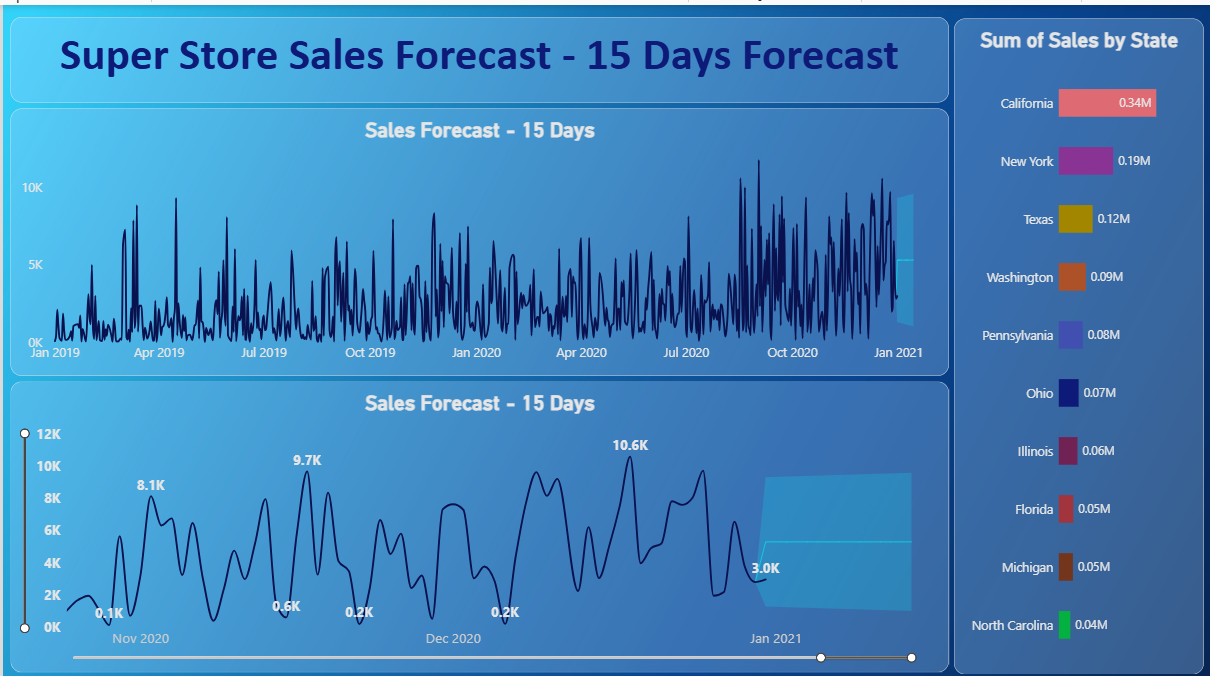

This screenshot's page, from the dashboard's own definition file:
{"tool":"powerbi","page":{"name":"Page 2","canvas":[1920,1080],"ordinal":1},"visuals":[{"type":"lineChart","title":"Sales Forecast - 15 Days","fields":{"Category":["Sales_data.Order Date"],"Y":["Sum(Sales_data.Sales)"]},"box":[12.5,165,1492.5,425],"z":0},{"type":"lineChart","title":"Sales Forecast - 15 Days","fields":{"Category":["Sales_data.Order Date"],"Y":["Sum(Sales_data.Sales)"]},"box":[12.5,600,1492.5,462.5],"z":1000},{"type":"clusteredBarChart","fields":{"Category":["Sales_data.State"],"Y":["Sum(Sales_data.Sales)"]},"box":[1512.5,22.5,397.5,1043],"z":2000},{"type":"textbox","box":[12.5,20,1492.5,136],"z":2001}]}

Visuals, with their boxes in screenshot pixels (x1, y1, x2, y2), scaled from the page's 1920x1080 canvas onto the 1210x676 screenshot:
"Sales Forecast - 15 Days" lineChart: region(8, 103, 948, 369)
"Sales Forecast - 15 Days" lineChart: region(8, 376, 948, 665)
clusteredBarChart - Sales_data.State x Sum(Sales_data.Sales): region(953, 14, 1204, 667)
textbox: region(8, 13, 948, 98)
